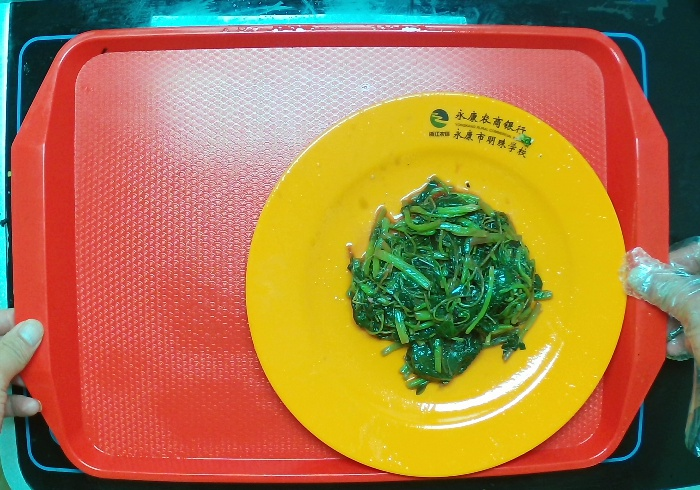YKMZ-Ju_Se_Mian_Pan: (242, 92, 631, 481)
